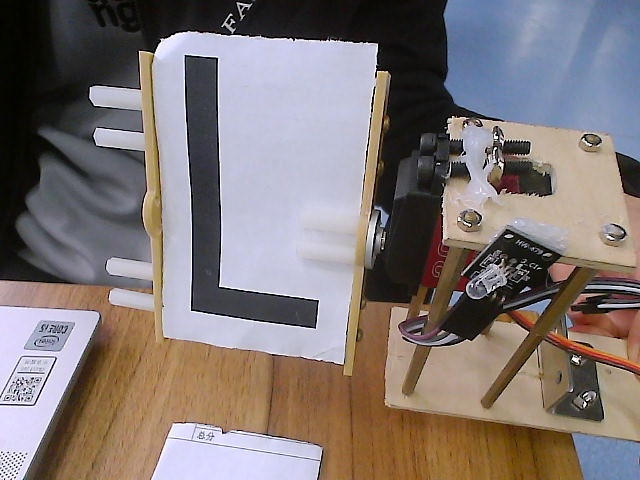L: (79, 17, 424, 375)
